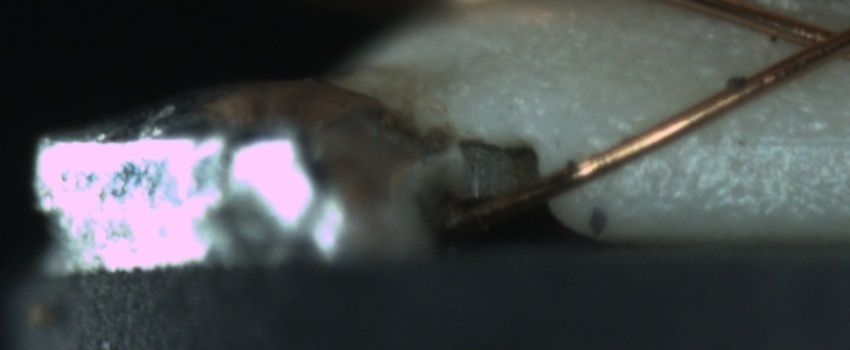CL: (771, 12, 848, 73)
DL: (688, 107, 849, 168)
